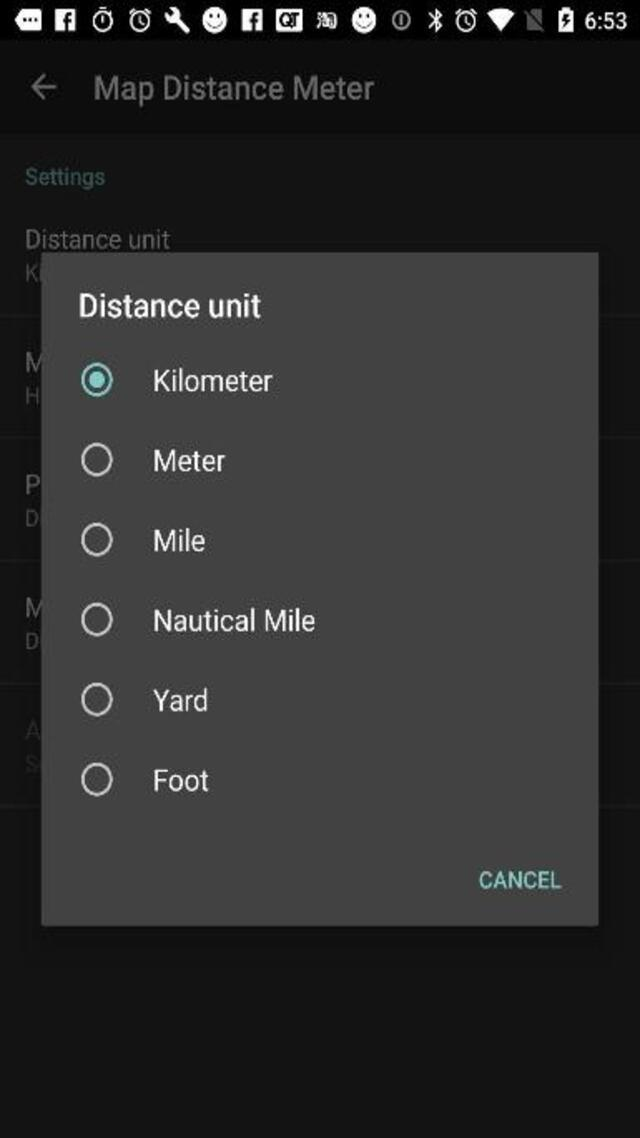CheckedTextView: (82, 602, 314, 636), (80, 364, 272, 398), (80, 442, 226, 476), (80, 762, 208, 796), (82, 682, 207, 716), (82, 523, 205, 555)
Icon: (30, 74, 56, 100)
Text: (95, 74, 374, 106), (81, 294, 261, 318), (154, 609, 314, 632), (28, 228, 168, 248), (155, 370, 271, 391), (25, 166, 105, 190), (154, 450, 224, 471), (480, 872, 561, 888), (153, 687, 206, 710), (154, 770, 208, 791), (156, 528, 203, 550)
